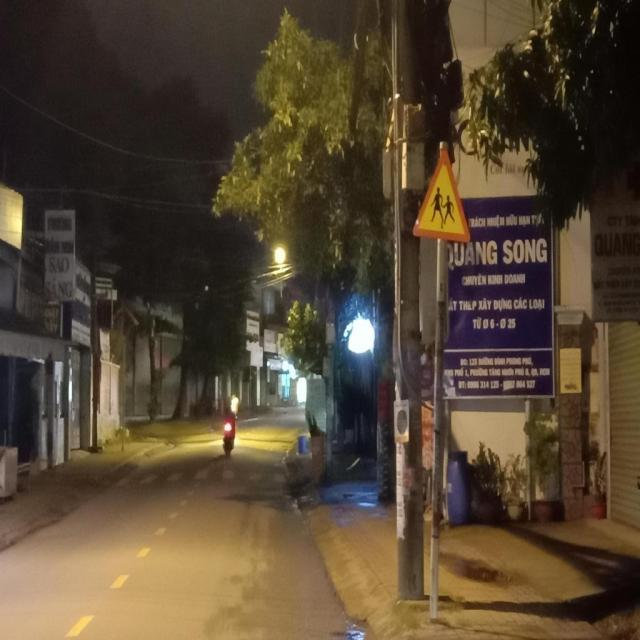225-chu-y-tre-em: (412, 146, 471, 244)
